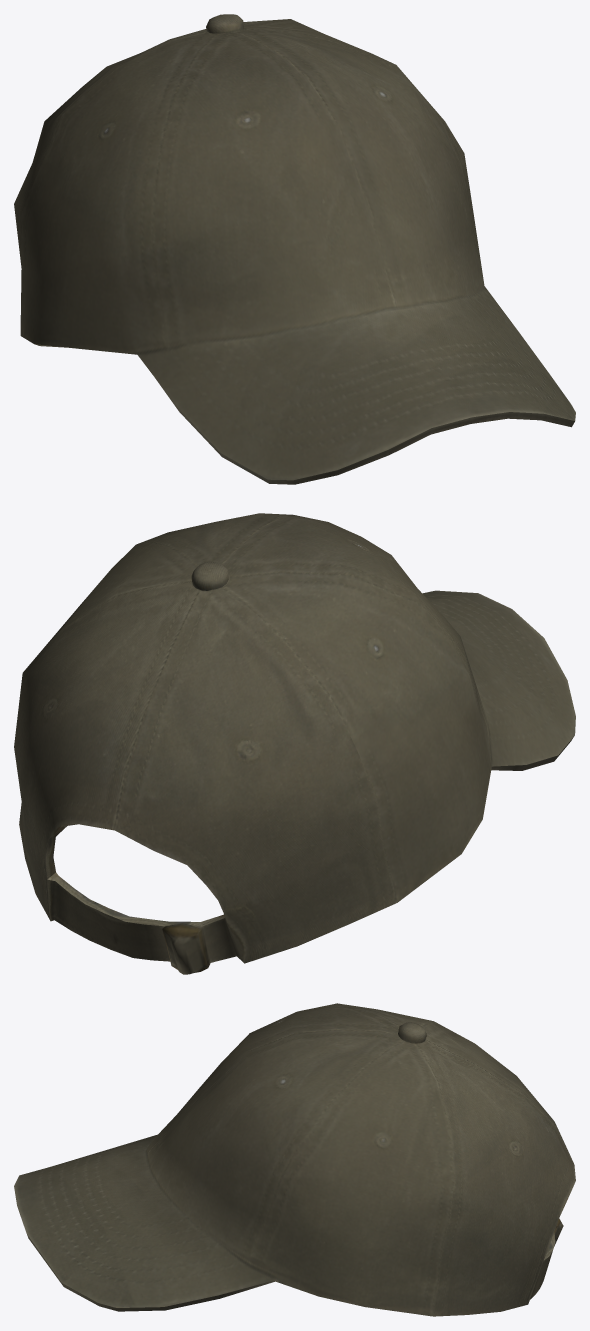
The model's file is 05_dad_hat.glb.
3 views of the same model, one above another, from view 1: azimuth 30°, elevation 25°; view 2: azimuth 150°, elevation 25°; view 3: azimuth 270°, elevation 25° (orthographic). The views are drawn at different scales.
Visible parts, largest first — view 1: Box001; view 2: Box001; view 3: Box001.
Part boxes in pixels (<box>): Box001: <box>14,14,575,484</box>; Box001: <box>14,513,575,974</box>; Box001: <box>14,1003,575,1316</box>.
Bounding box in the file's own units: 0.3783 × 0.2809 × 0.561.
Materials: 1 (1 with a texture image).
